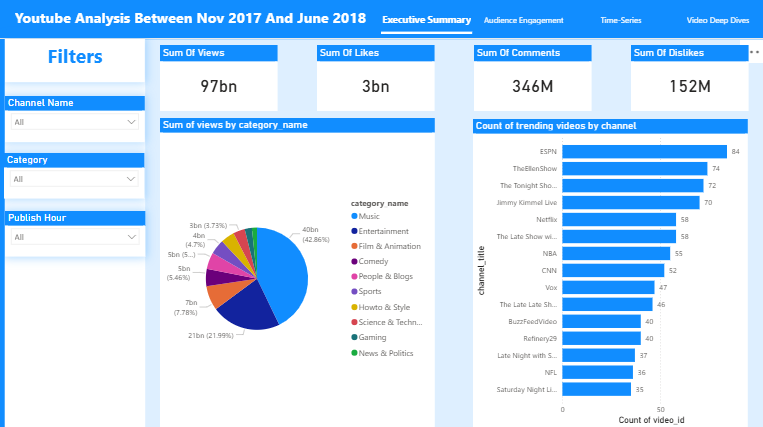

Layout of this report page (visuals, bound fields, positions):
{"tool":"powerbi","page":{"name":"Executive Summary","canvas":[1280,720],"ordinal":0},"visuals":[{"type":"shape","box":[0,0,1280,72],"z":0},{"type":"shape","box":[0,71.4,247.1,648.6],"z":1000},{"type":"shape","box":[0,71.4,12.9,648.6],"z":2000},{"type":"textbox","box":[40,8.9,688.9,53.3],"z":3000},{"type":"card","title":"Sum Of Views","fields":{"Values":["Sum(Video_Stats.views)"]},"box":[272,82,196,110],"z":4000},{"type":"card","title":"Sum Of Likes","fields":{"Values":["Sum(Video_Stats.likes)"]},"box":[533.3,82,196,110],"z":5000},{"type":"card","title":"Sum Of Comments","fields":{"Values":["Sum(Video_Stats.comment_count)"]},"box":[794.7,82,196,110],"z":6000},{"type":"card","title":"Sum Of Dislikes","fields":{"Values":["Sum(Video_Stats.dislikes)"]},"box":[1056,82,196,110],"z":7000},{"type":"pieChart","fields":{"Category":["Categories.category_name"],"Y":["Sum(Video_Stats.views)"]},"box":[271.7,203.3,458.3,516.7],"z":8000},{"type":"clusteredBarChart","title":"Count of trending videos by channel","fields":{"Category":["channels.channel_title"],"Y":["CountNonNull(Videos.video_id)"]},"box":[793.3,205,458.3,515],"z":9000},{"type":"slicer","title":"Channel Name","fields":{"Values":["channels.channel_title"]},"box":[13.3,166.7,233.3,76.7],"z":10000},{"type":"textbox","box":[13.3,71.7,233.3,71.7],"z":11000},{"type":"slicer","title":"Category","fields":{"Values":["Categories.category_name"]},"box":[12,262,234,76],"z":12000},{"type":"slicer","title":"Publish Hour","fields":{"Values":["Videos.publish_Hour"]},"box":[13,358,234,76],"z":13000}]}

Visuals, with their boxes in screenshot pixels (x1, y1, x2, y2), scaled from the page's 1280x720 canvas onto the 763x427 screenshot:
shape: (0, 0, 762, 43)
shape: (0, 42, 147, 426)
shape: (0, 42, 8, 426)
textbox: (24, 5, 434, 37)
"Sum Of Views" card: (162, 49, 279, 114)
"Sum Of Likes" card: (318, 49, 435, 114)
"Sum Of Comments" card: (474, 49, 591, 114)
"Sum Of Dislikes" card: (629, 49, 746, 114)
pieChart - Categories.category_name x Sum(Video_Stats.views): (162, 121, 435, 426)
"Count of trending videos by channel" clusteredBarChart: (473, 122, 746, 426)
"Channel Name" slicer: (8, 99, 147, 144)
textbox: (8, 43, 147, 85)
"Category" slicer: (7, 155, 147, 200)
"Publish Hour" slicer: (8, 212, 147, 257)
